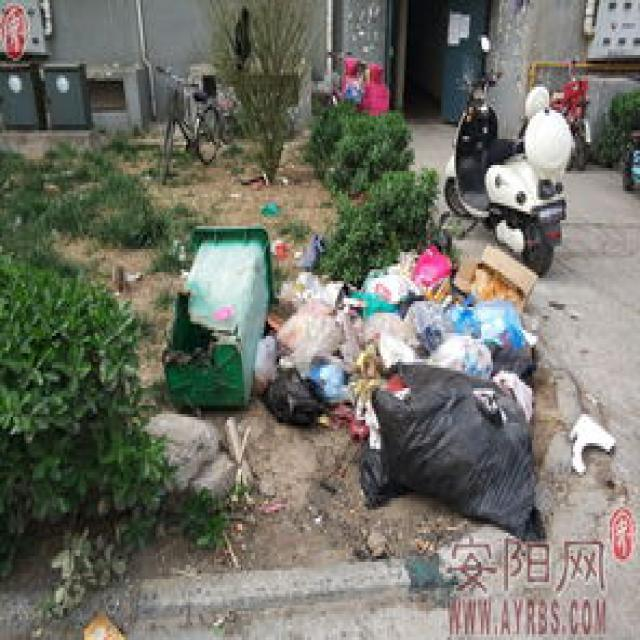garbage: (253, 229, 614, 547)
